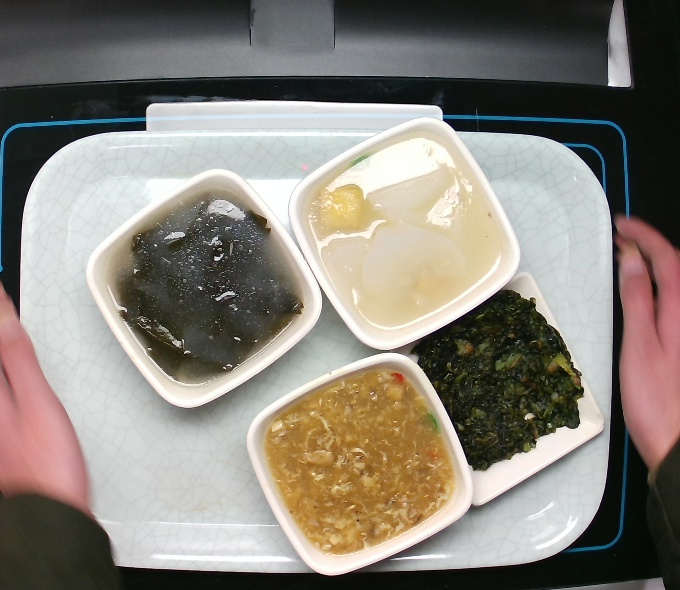wcq-HaiDaiPaiGuTang: (102, 186, 311, 389)
wcq-LuoBoYouPaoTang: (296, 130, 509, 336)
wcq-QinCaiBing: (407, 288, 585, 466)
wcq-SuanLaGeng: (261, 366, 456, 550)
